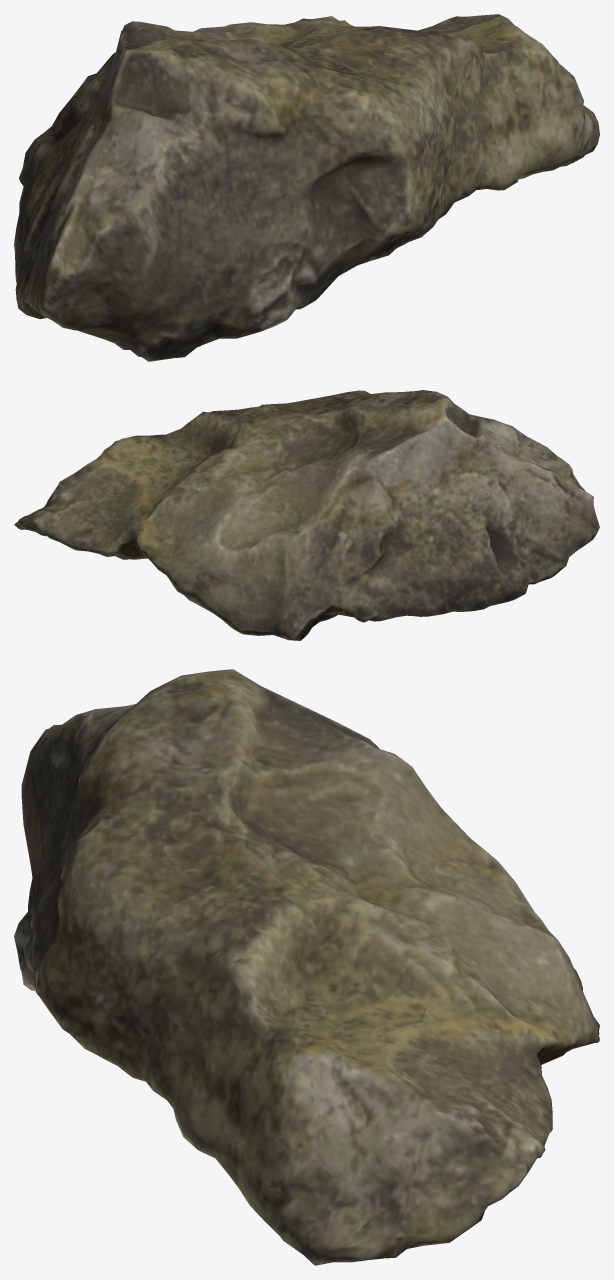
Rendered from Scan_MossStone_C.fbx.
3 views of the same model, one above another, from view 1: azimuth 30°, elevation 25°; view 2: azimuth 150°, elevation 25°; view 3: azimuth 270°, elevation 25° (orthographic). The views are drawn at different scales.
Parts seen in each view (by area): view 1: Scan_MossStone_C_LOD0; view 2: Scan_MossStone_C_LOD0; view 3: Scan_MossStone_C_LOD0.
Part boxes in pixels (x1,y1,x2,y2): Scan_MossStone_C_LOD0: (14,14,599,361); Scan_MossStone_C_LOD0: (14,390,599,640); Scan_MossStone_C_LOD0: (14,669,599,1265).
Size of what is drawn, in the model's own units: 1.63 by 0.6102 by 1.01.
